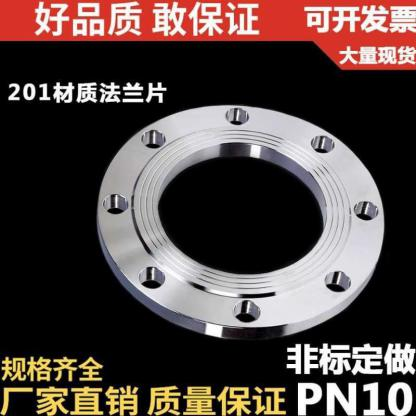FOD: (93, 100, 387, 344)
